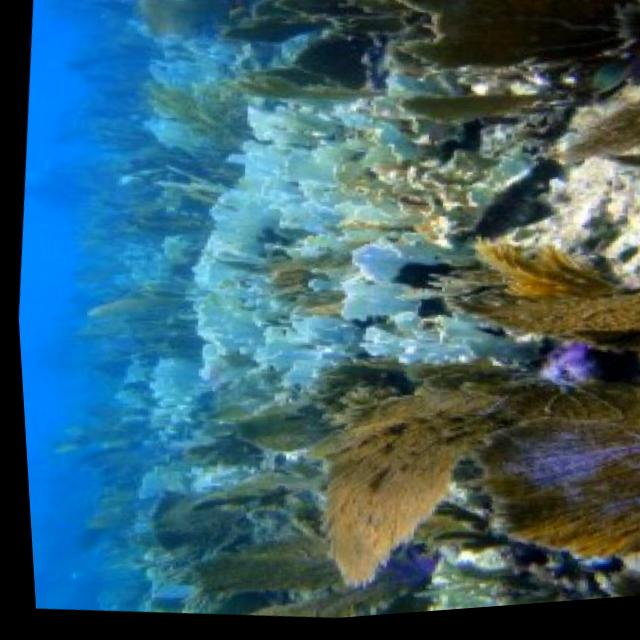Bleached Coral: (168, 20, 609, 424)
